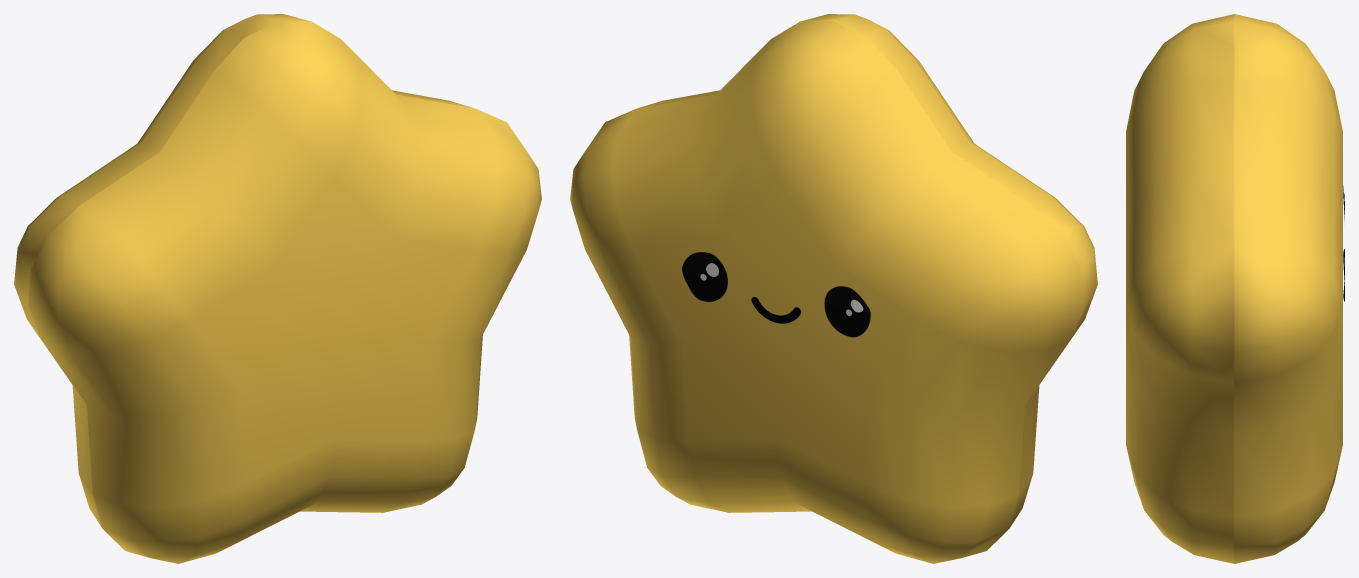
File: proyecto3.glb
3 renders of one model, left to right at view 1: azimuth 30°, elevation 25°; view 2: azimuth 150°, elevation 25°; view 3: azimuth 270°, elevation 25°, orthographic. The views are drawn at different scales.
Visible parts, largest first — view 1: Circle; view 2: Circle, Simple_Face_001; view 3: Circle.
Part boxes in pixels (left/top/right/bottom): Circle: left=14, top=14, right=541, bottom=563; Circle: left=570, top=14, right=1097, bottom=563; Simple_Face_001: left=682, top=252, right=870, bottom=337; Circle: left=1126, top=14, right=1342, bottom=563.
Bounding box in the file's own units: 2.61 × 2.53 × 1.03.
2 materials, 1 textured.
